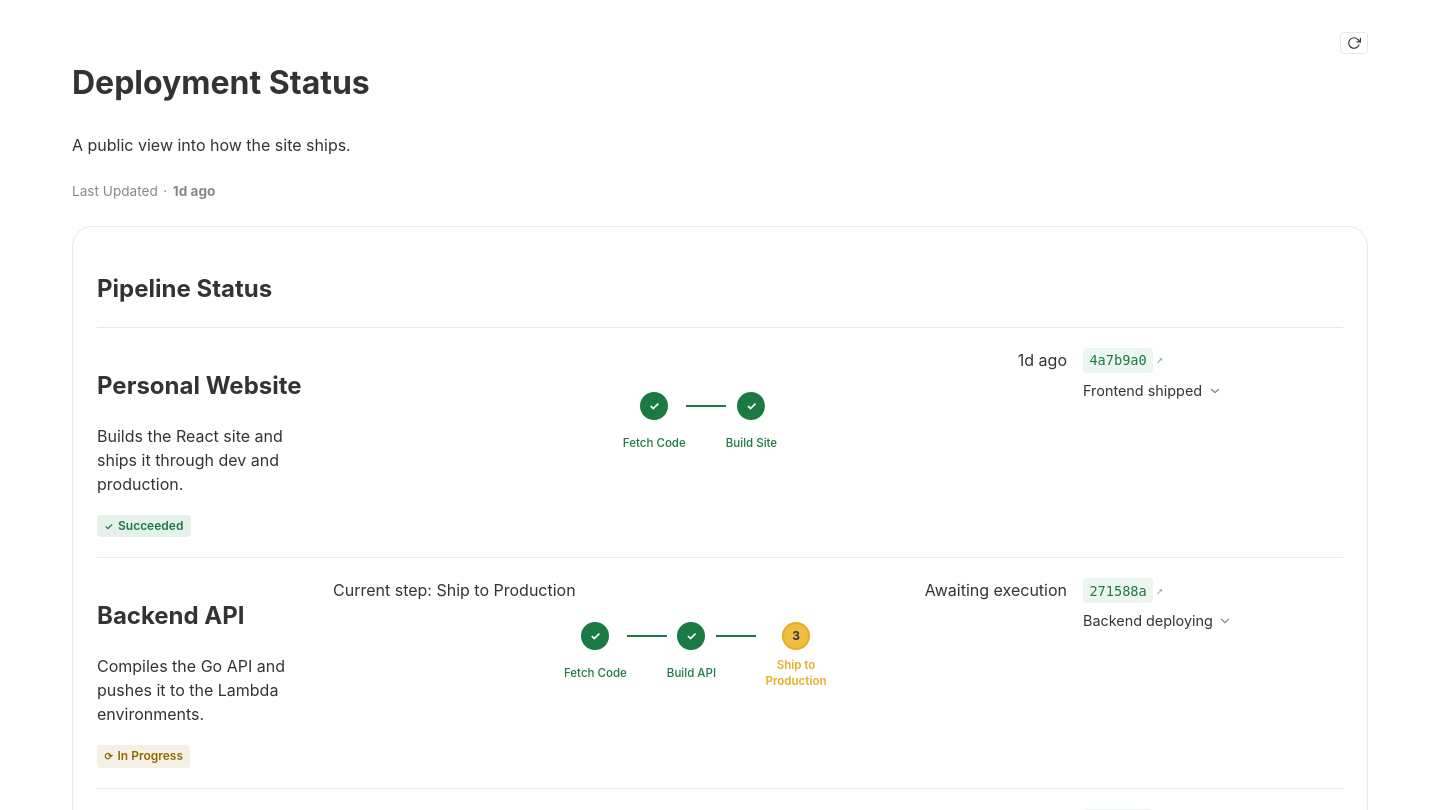
Test case: Status › expands commit message inline when expand button is clicked
Check: the heading "Personal Website" is shown, box [97, 368, 317, 404]
Click the button named "show full commit message" next to "Frontend shipped": (1215, 392) [1208, 384, 1222, 400]
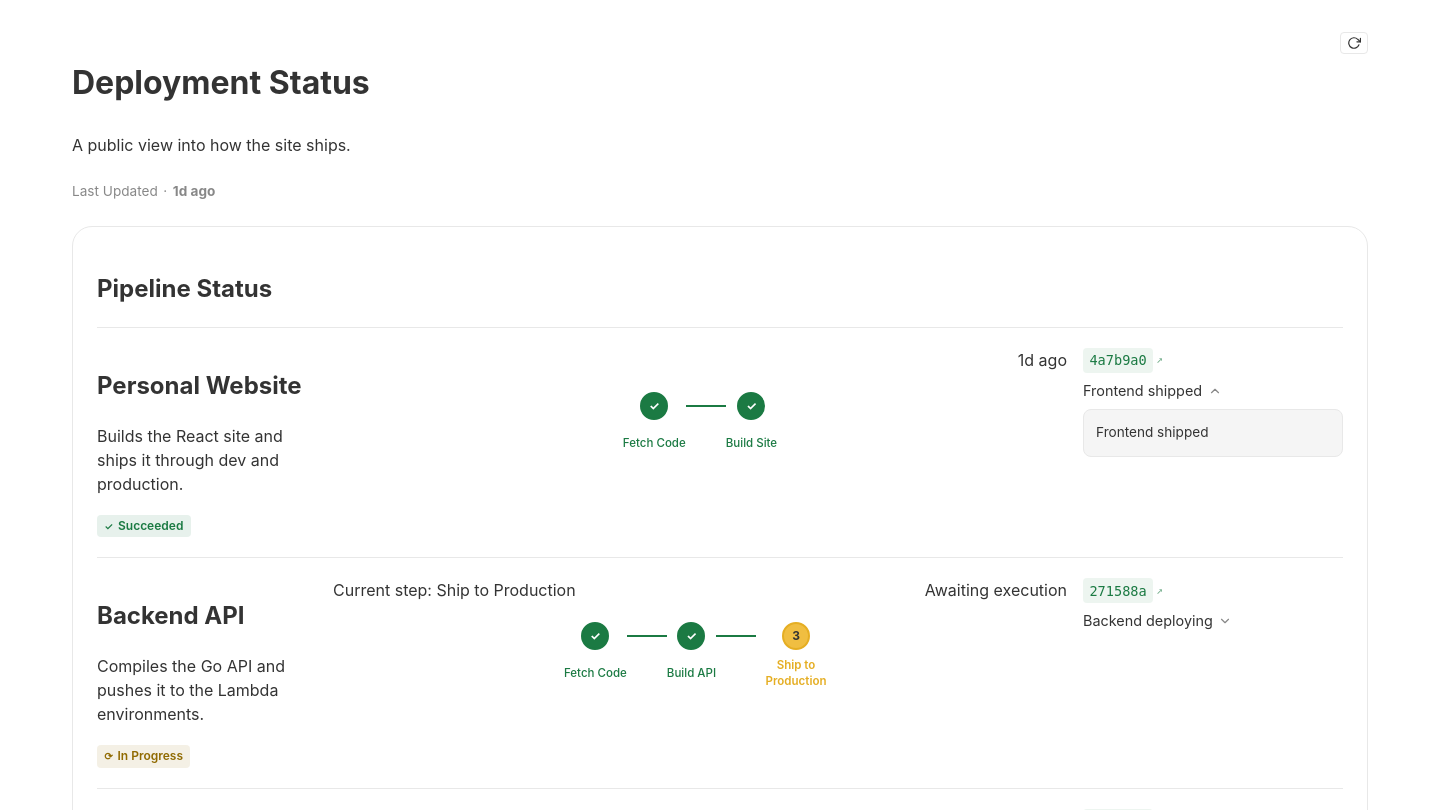
Check: the 2nd text "Frontend shipped" is shown, box [1096, 424, 1208, 440]
